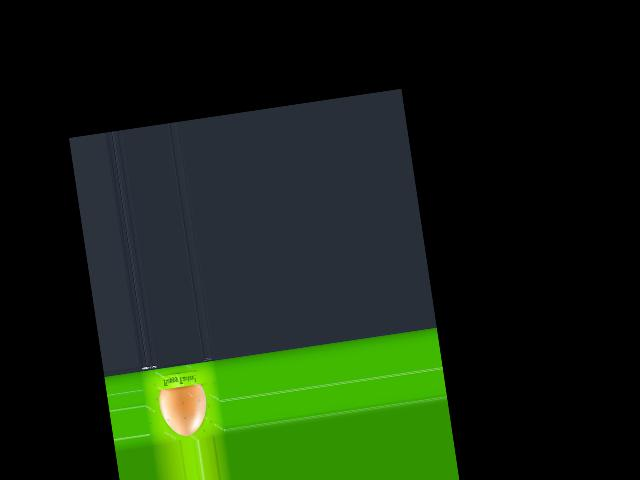egg: (157, 383, 211, 439)
